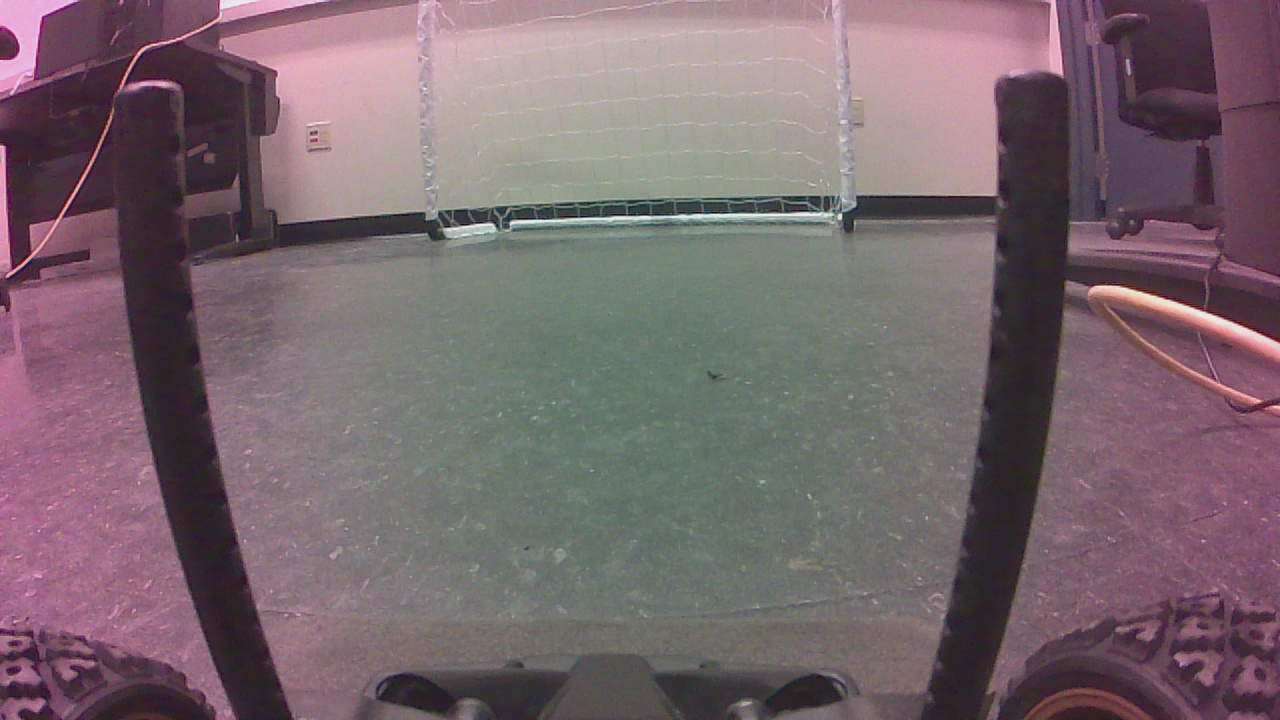goal: (418, 2, 863, 242)
